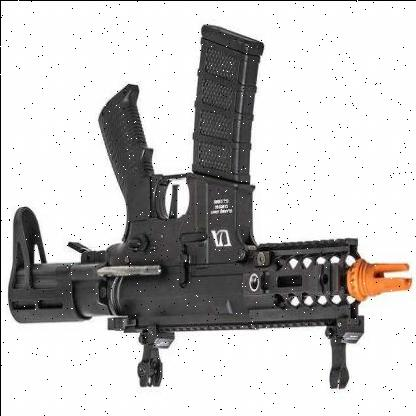rifle: (4, 31, 410, 404)
